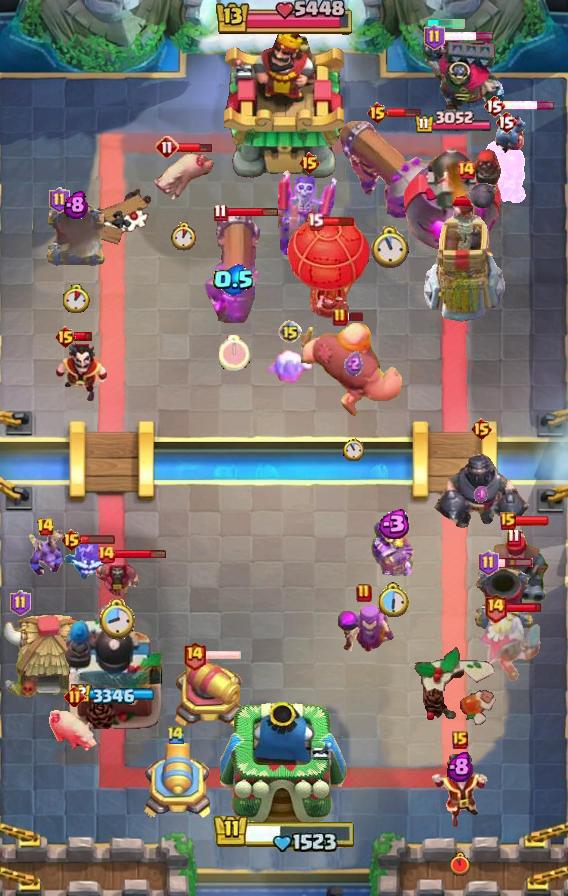balloon: (301, 321, 405, 421)
bowler: (93, 553, 141, 601)
cannon-cart: (287, 217, 371, 319)
clock: (212, 810, 356, 852), (213, 0, 355, 38)
electro-spirit: (213, 264, 255, 296), (374, 509, 411, 539), (447, 751, 473, 782), (64, 190, 88, 219), (344, 351, 363, 377), (475, 484, 490, 503)
elixir: (371, 227, 409, 270), (99, 599, 135, 641), (375, 582, 409, 618), (219, 335, 249, 371), (170, 222, 198, 251), (63, 283, 90, 312), (343, 438, 364, 462), (450, 852, 470, 876)
emote: (225, 206, 279, 217), (442, 31, 495, 42), (504, 101, 557, 112), (114, 549, 167, 560), (177, 142, 213, 155), (498, 557, 535, 569), (205, 649, 242, 661), (514, 515, 550, 527), (387, 107, 422, 119), (505, 602, 542, 613), (80, 535, 116, 546), (321, 217, 355, 228), (74, 330, 93, 342), (345, 311, 365, 322)
firecracker-evolution: (370, 517, 414, 579)
furnace: (337, 116, 443, 222), (203, 209, 265, 323)
giant: (151, 150, 217, 204), (48, 704, 100, 754)
ice-spirit: (426, 19, 466, 29)
inferno-tower: (388, 37, 504, 121)
king-tower: (224, 29, 344, 181), (220, 702, 348, 827)
lumberjack: (429, 754, 491, 830), (53, 341, 109, 405)
mega-minion: (482, 127, 530, 207)
mirror: (265, 349, 315, 387)
mortar-evolution: (477, 608, 545, 682)
musketeer: (44, 203, 108, 269), (473, 565, 535, 633)
phoenix-small: (484, 526, 552, 604)
prince: (0, 613, 94, 703)
rascal-girl: (334, 601, 394, 655)
royal-delivery: (27, 530, 63, 578), (492, 109, 528, 153)
royal-guardian: (430, 445, 532, 531)
royal-recruit: (138, 743, 214, 823), (170, 655, 248, 731)
selected: (414, 110, 494, 135), (71, 684, 157, 706)
skeleton-king-bar: (278, 166, 340, 256)
spear-goblin: (62, 536, 114, 580)
text: (483, 592, 508, 623), (181, 641, 206, 672), (155, 135, 179, 159), (278, 320, 302, 344), (477, 550, 499, 576), (367, 101, 390, 125), (299, 151, 322, 175), (54, 325, 77, 349), (471, 417, 494, 441), (61, 528, 84, 552), (424, 24, 445, 50), (50, 187, 71, 213), (9, 590, 30, 616), (483, 94, 505, 118), (495, 110, 517, 134), (64, 686, 85, 707), (166, 723, 186, 744), (456, 160, 476, 180), (36, 517, 56, 537), (96, 544, 116, 564), (307, 213, 325, 231), (332, 307, 348, 327), (356, 583, 372, 603), (500, 512, 516, 530), (452, 731, 468, 749), (213, 203, 227, 221)
tower-bar: (64, 601, 164, 731), (404, 138, 505, 256)
zappy: (422, 182, 510, 326)
